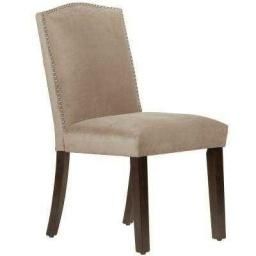Chair: (35, 3, 228, 248)
